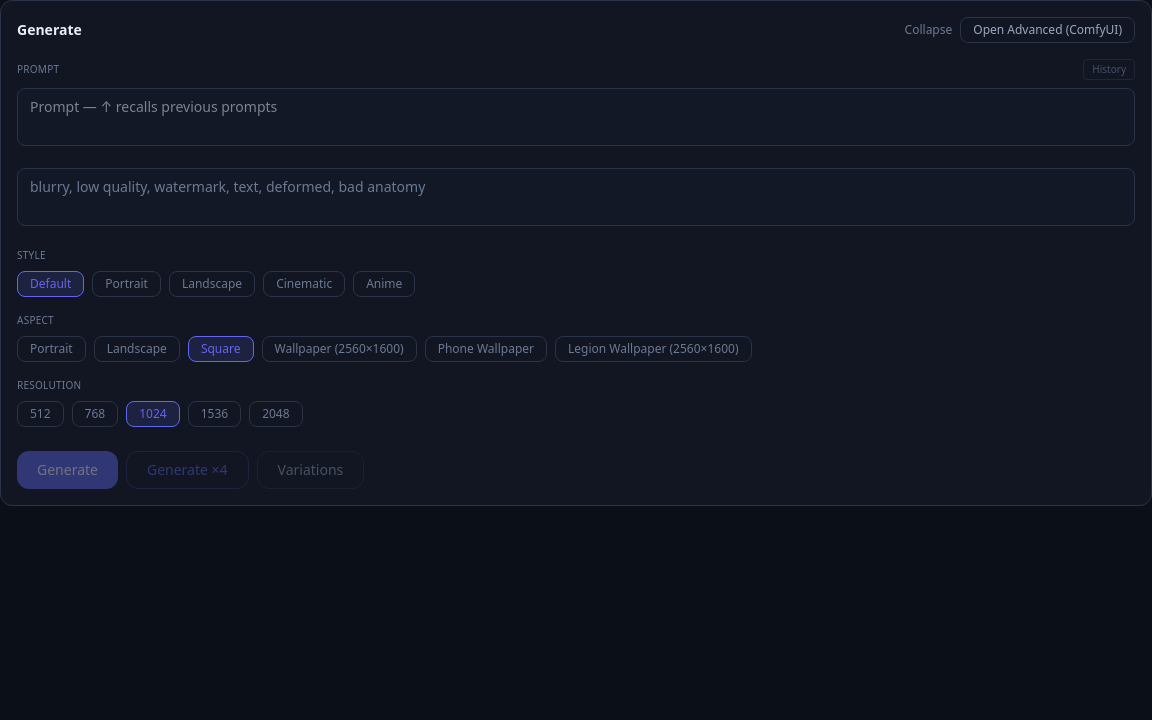
Test: prompt paste › image generation prompt accepts keyboard paste
The image size is (1152, 720).
Click the text box with placeholder "Prompt — ↑ recalls previous prompts".
click(576, 117)  # box [17,88,1135,146]
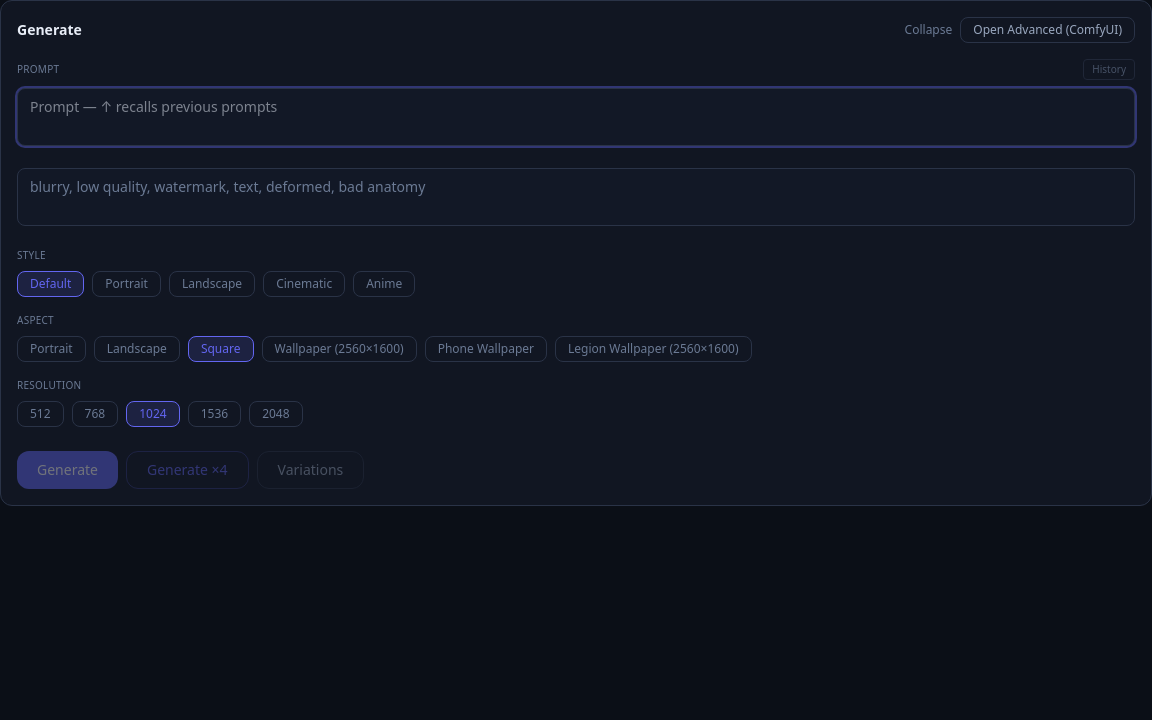
Type keys "mountain lake at dawn"
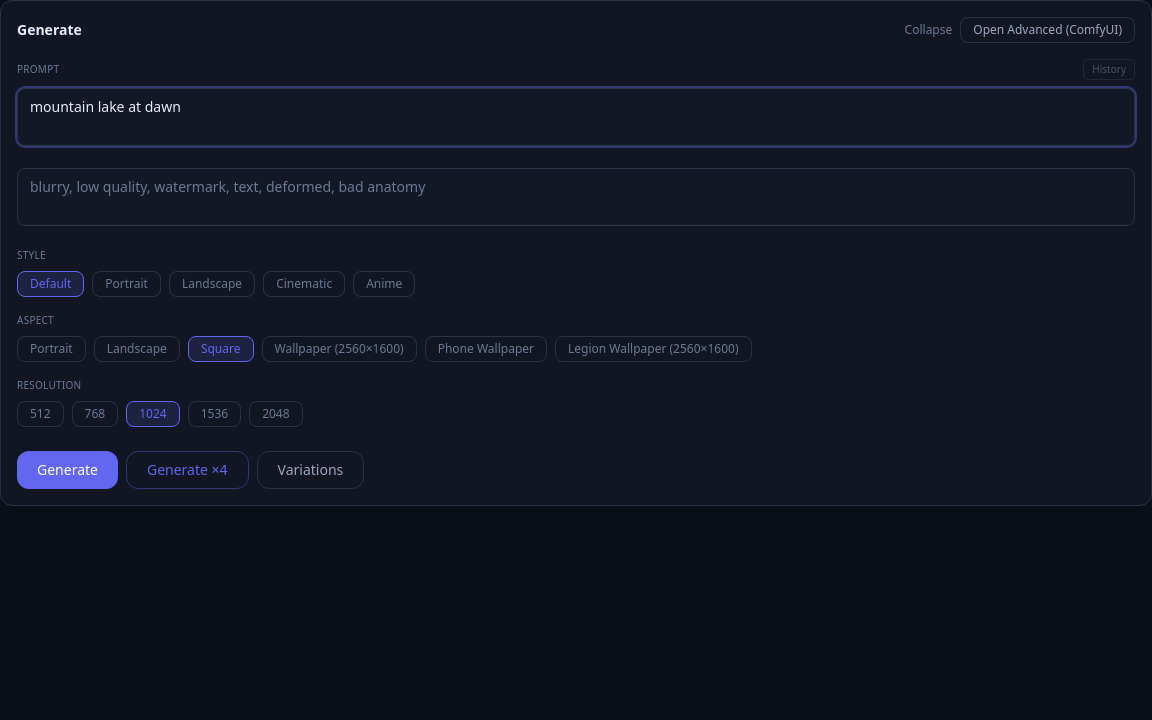
Now the text box with placeholder "Prompt — ↑ recalls previous prompts" below "Prompt" holds "mountain lake at dawn", box [17,88,1135,146]
